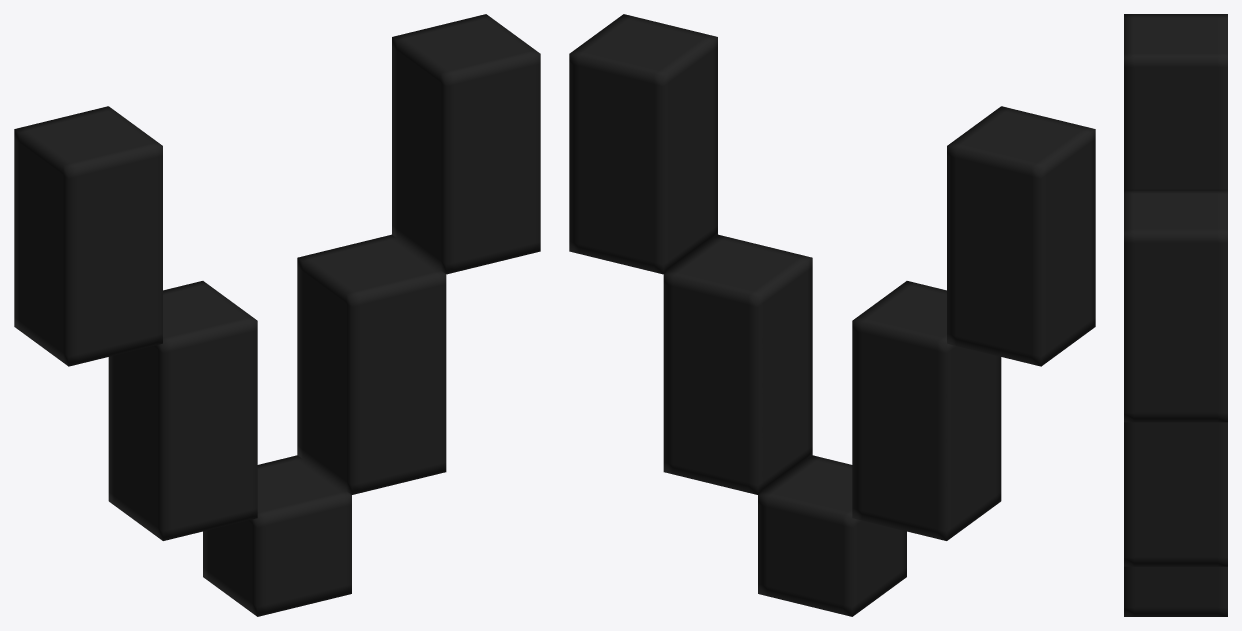
File: font_v.glb
The picture shows the model from 3 angles, left to right: view 1: azimuth 30°, elevation 25°; view 2: azimuth 150°, elevation 25°; view 3: azimuth 270°, elevation 25°; orthographic projection. The views are drawn at different scales.
Parts seen in each view (by area): view 1: letter_v; view 2: letter_v; view 3: letter_v.
Part boxes in pixels (left/top/right/bottom): letter_v: left=14, top=14, right=540, bottom=616; letter_v: left=569, top=14, right=1095, bottom=616; letter_v: left=1124, top=14, right=1227, bottom=616.
Bounding box in the file's own units: 1 × 1 × 0.2.
1 material, 1 textured.
